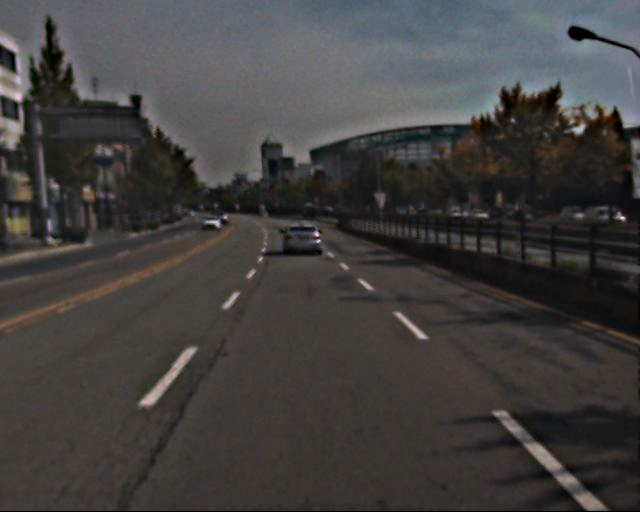person: (510, 201, 530, 250)
